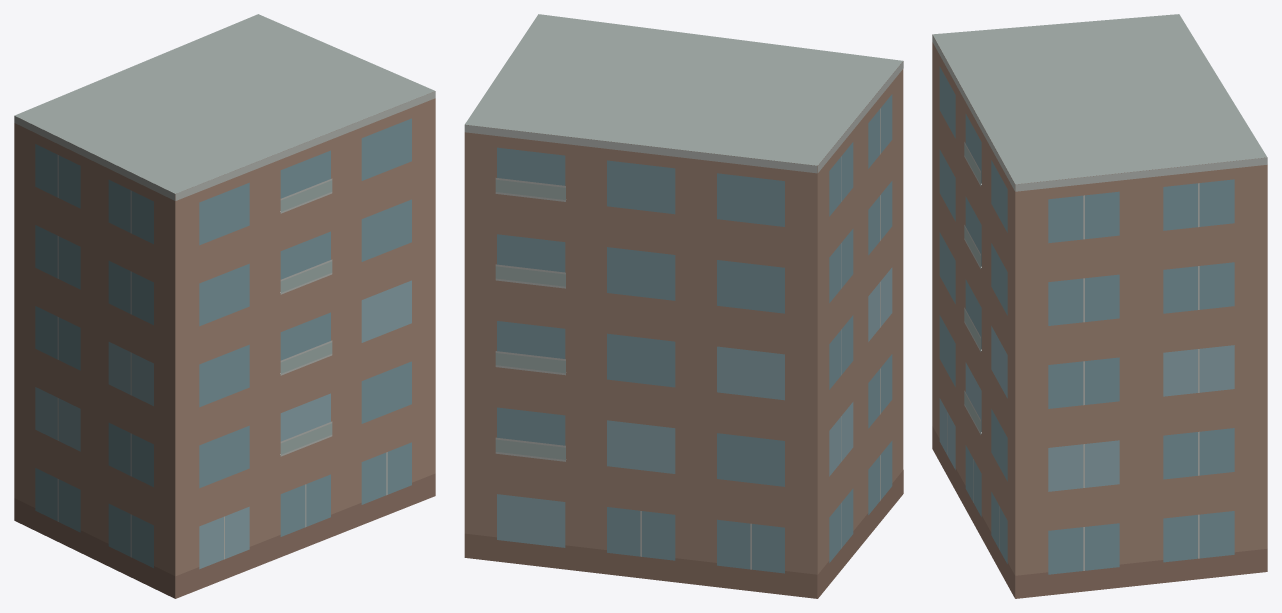
The model's file is survey-upis-32644018.glb.
The picture shows the model from 3 angles, left to right: view 1: azimuth 30°, elevation 25°; view 2: azimuth 150°, elevation 25°; view 3: azimuth 270°, elevation 25°; orthographic projection. The views are drawn at different scales.
Parts seen in each view (by area): view 1: survey-upis-32644018.tmp; view 2: survey-upis-32644018.tmp; view 3: survey-upis-32644018.tmp.
Boxes of the visible parts, x1=… form: survey-upis-32644018.tmp: x1=14, y1=14, x2=435, y2=598; survey-upis-32644018.tmp: x1=464, y1=14, x2=903, y2=598; survey-upis-32644018.tmp: x1=932, y1=14, x2=1267, y2=598.
Size of the model in its own units: 12.18 by 13.8 by 10.12.
